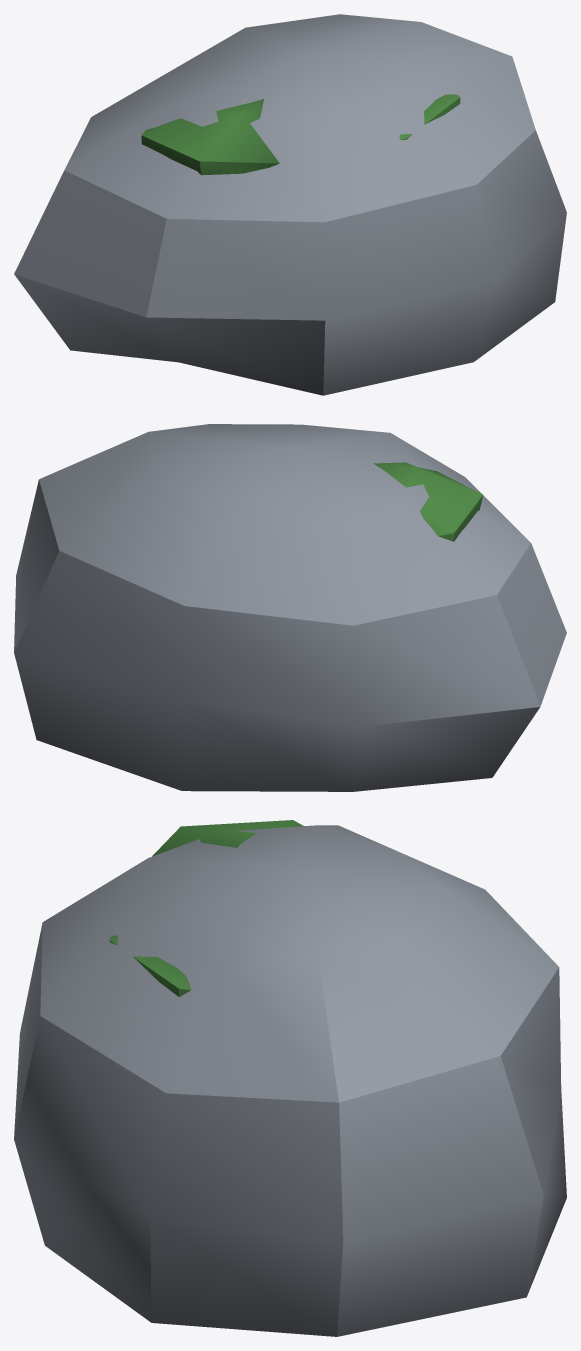
Rendered from rock_a.glb.
3 views of the same model, one above another, from view 1: azimuth 30°, elevation 25°; view 2: azimuth 150°, elevation 25°; view 3: azimuth 270°, elevation 25° (orthographic). The views are drawn at different scales.
Visible parts, largest first — view 1: Rock; view 2: Rock; view 3: Rock.
Part boxes in pixels (x1,y1,x2,y2): Rock: (14, 14, 566, 395); Rock: (14, 424, 566, 791); Rock: (14, 820, 566, 1336).
Bounding box in the file's own units: 0.4642 × 0.2202 × 0.3339.
1 material, 1 textured.
